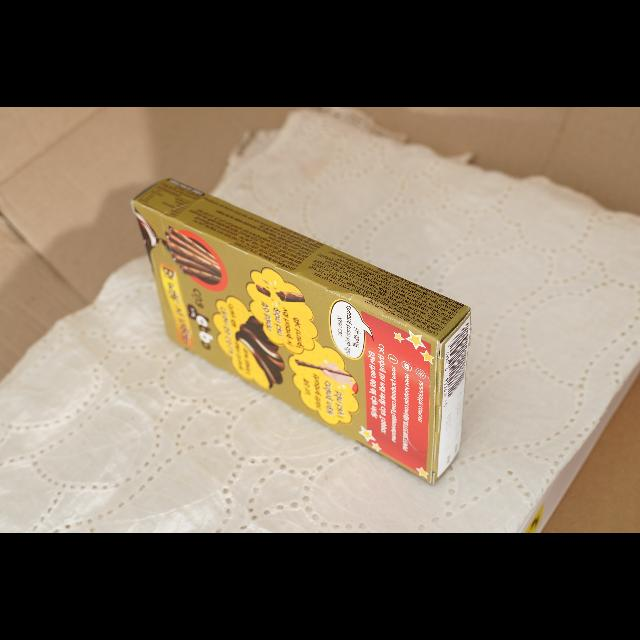banh_toppo_socola: (133, 179, 470, 483)
